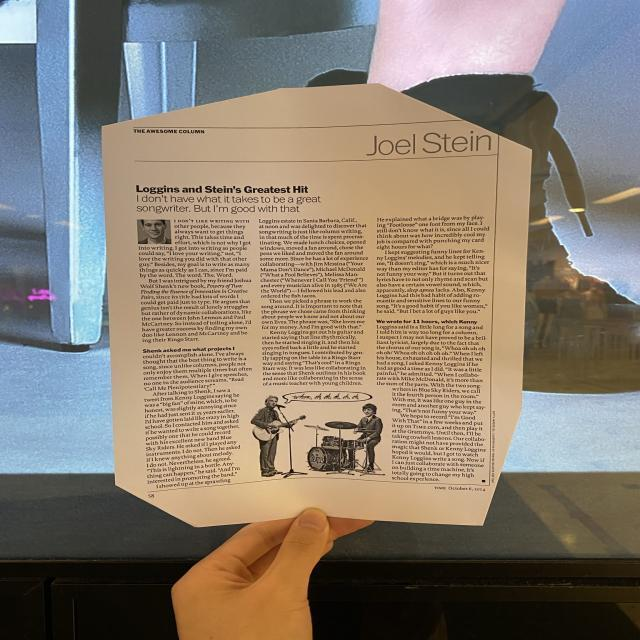document: (103, 85, 530, 526)
